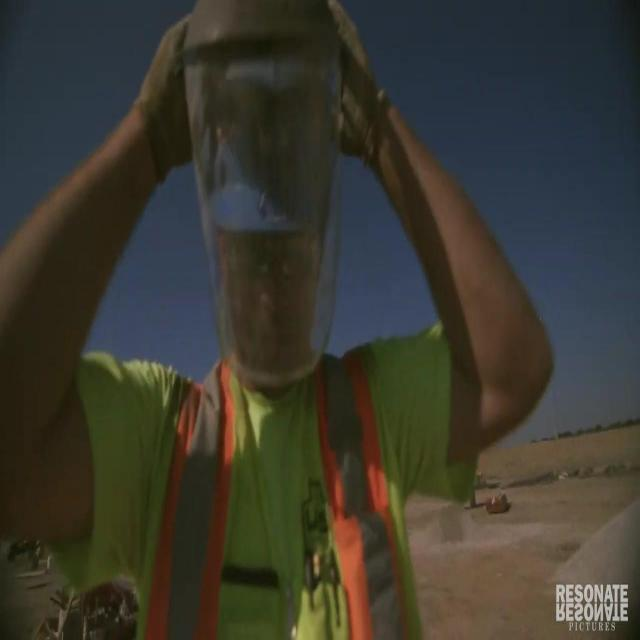vest: (53, 315, 485, 638)
